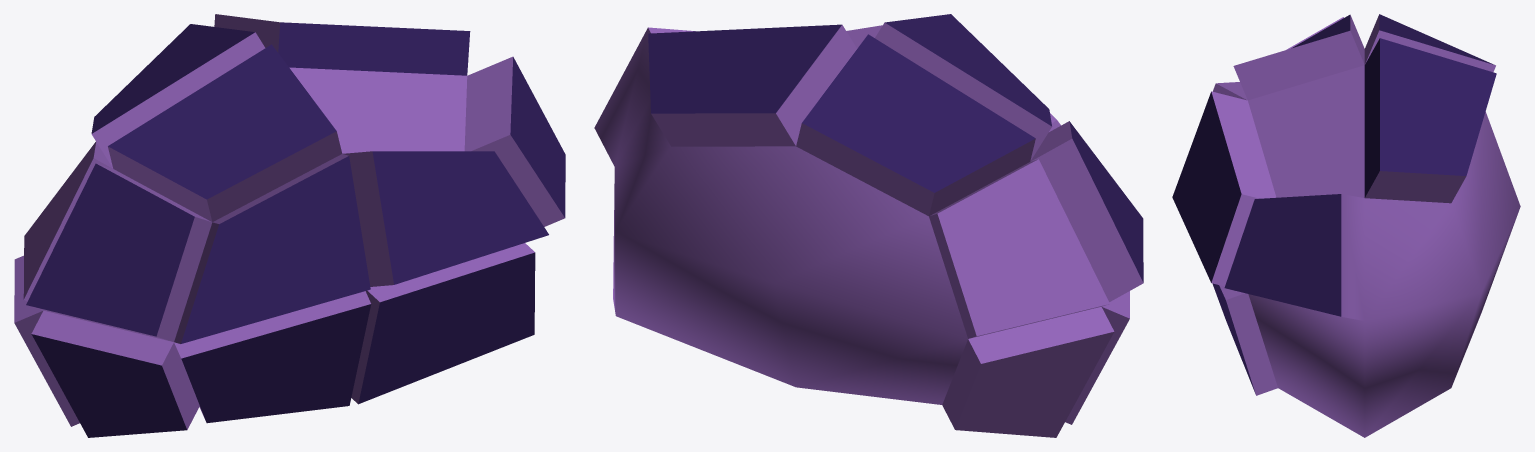
Rendered from Coral04.fbx.
The picture shows the model from 3 angles, left to right: view 1: azimuth 30°, elevation 25°; view 2: azimuth 150°, elevation 25°; view 3: azimuth 270°, elevation 25°; orthographic projection. The views are drawn at different scales.
Parts seen in each view (by area): view 1: Coral05; view 2: Coral05; view 3: Coral05.
Part boxes in pixels (left/top/right/bottom): Coral05: left=14, top=14, right=565, bottom=437; Coral05: left=594, top=14, right=1143, bottom=437; Coral05: left=1172, top=14, right=1520, bottom=437.
Bounding box in the file's own units: 49.49 × 31.04 × 30.83.
